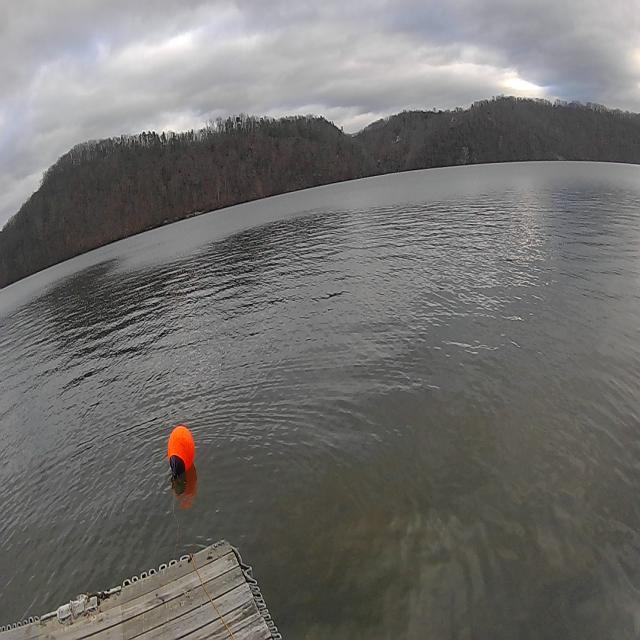Buoy: (165, 421, 197, 486)
